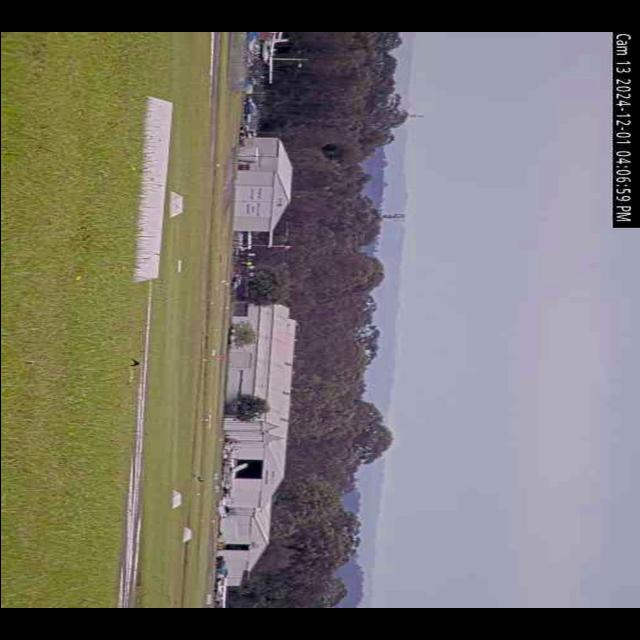Birds-Ibis: (118, 356, 144, 386)
